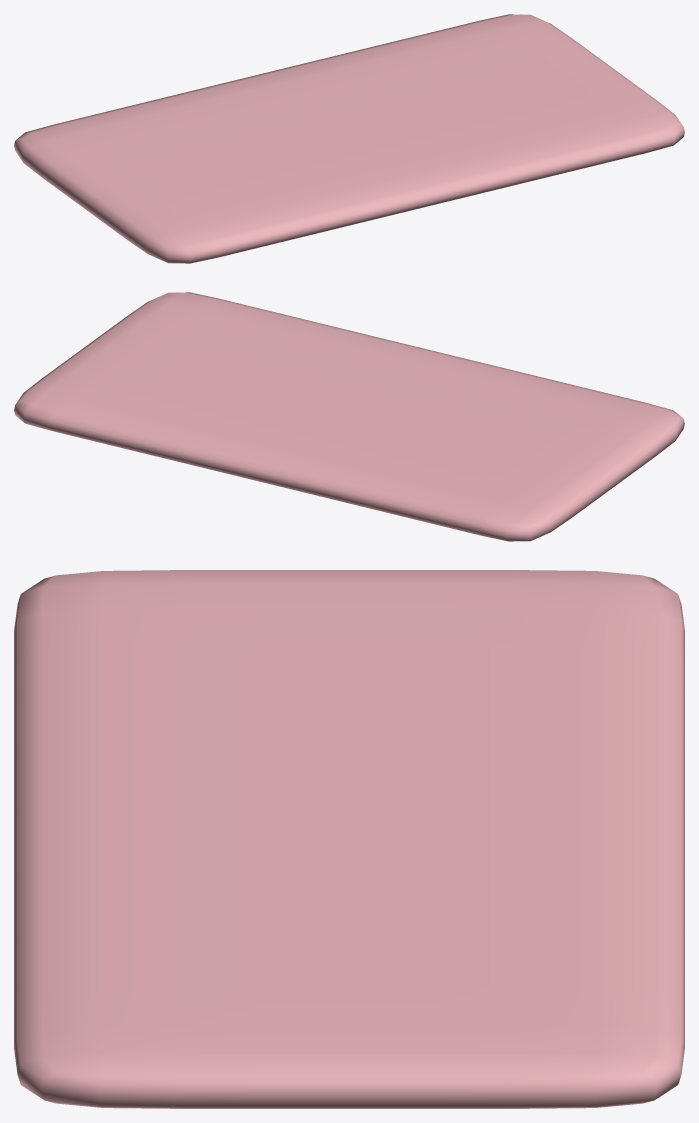
The model's file is Mini Rug.fbx.
3 views of the same model, one above another, from view 1: azimuth 30°, elevation 25°; view 2: azimuth 150°, elevation 25°; view 3: azimuth 270°, elevation 25° (orthographic). The views are drawn at different scales.
Visible parts, largest first — view 1: Mini Rug; view 2: Mini Rug; view 3: Mini Rug.
Boxes of the visible parts, x1=… form: Mini Rug: x1=14, y1=14, x2=684, y2=263; Mini Rug: x1=14, y1=292, x2=684, y2=541; Mini Rug: x1=14, y1=570, x2=684, y2=1108.
Size of the model in its own units: 191 by 7.55 by 105.
